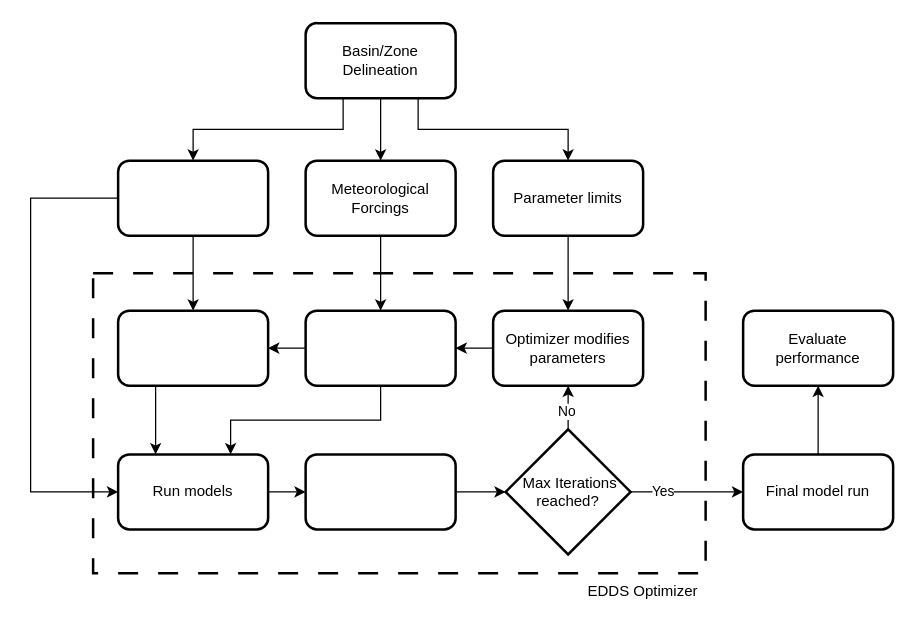
The diagram is 916 pixels wide and 631 high, and some of its shapes have lost their labels. The shapes that lost their labels are listed below. From the top down, each one's centre as x and y in pixels, then its label:
(192,197): Static basin parameters
(192,347): Initial Parameters
(380,347): Forcing Adjustment
(380,491): Compute Objective Function
